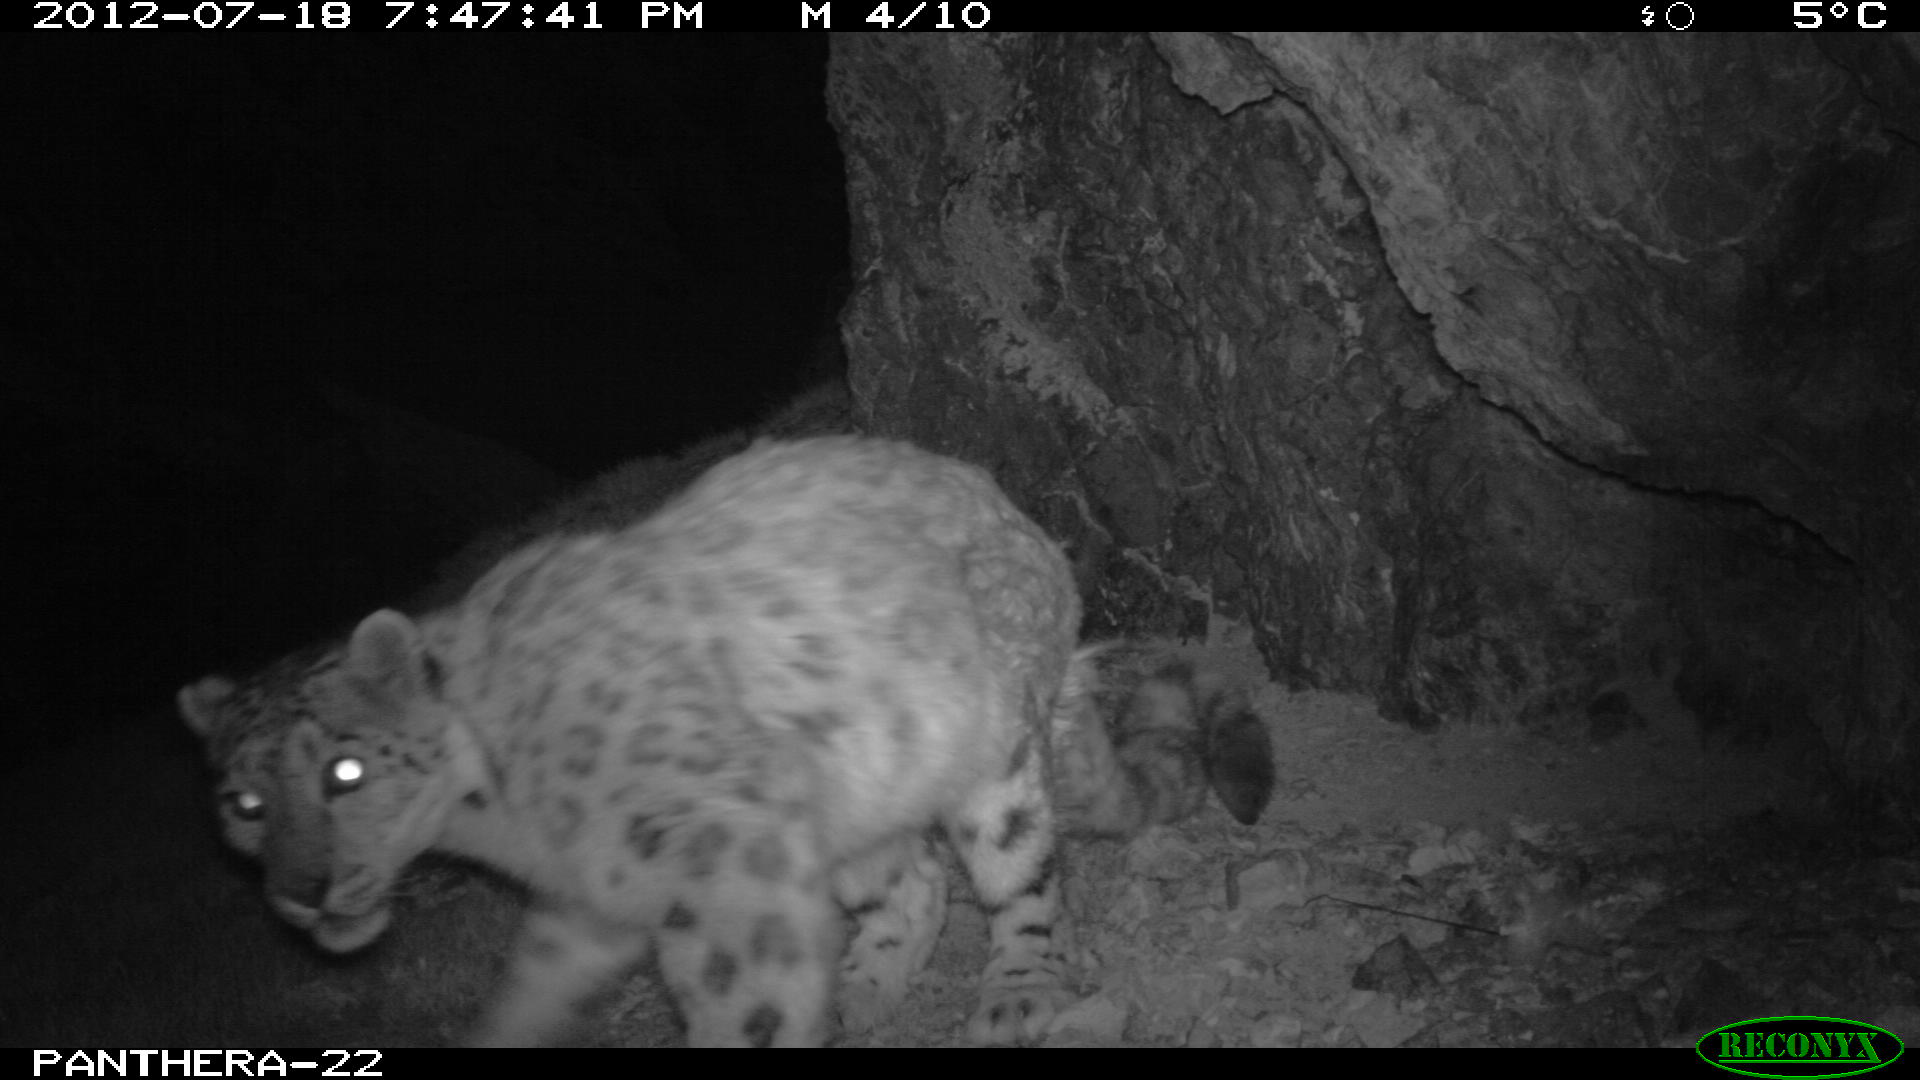Leopard: (152, 400, 1240, 1050)
